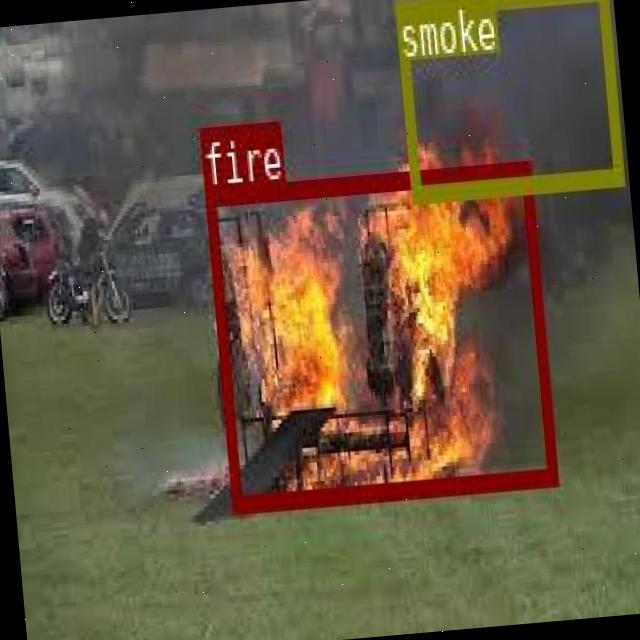fire: (204, 158, 554, 510)
smoke: (393, 0, 623, 200)
